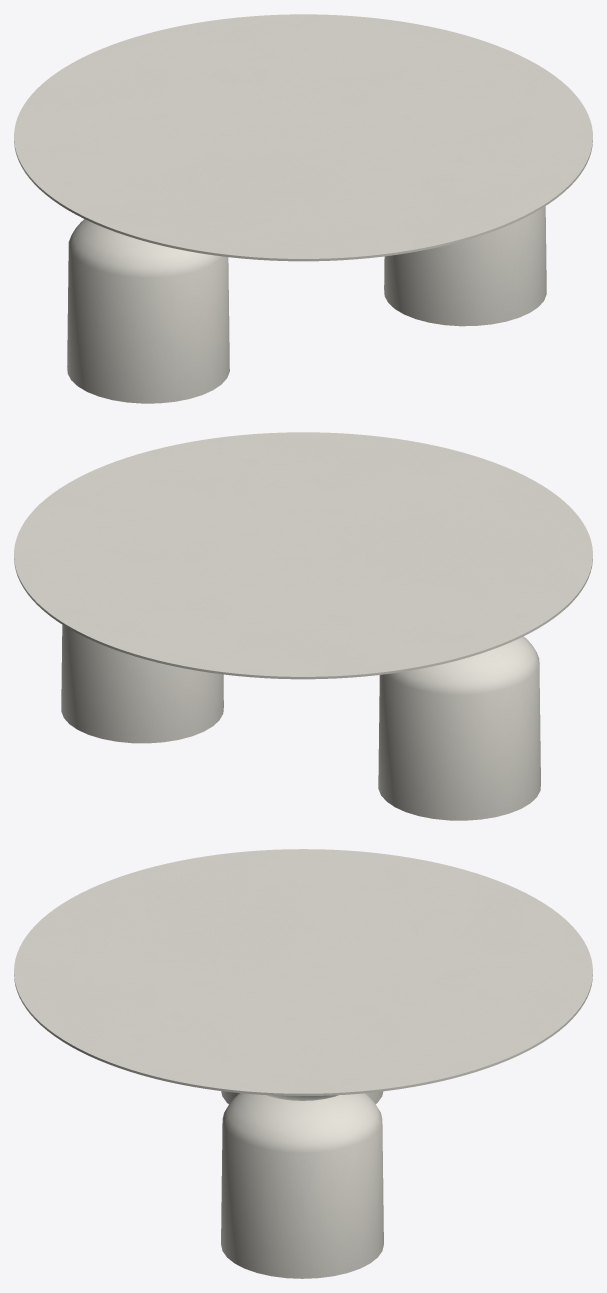
Rendered from pale_round_facet_tornado.glb.
3 views of the same model, one above another, from view 1: azimuth 30°, elevation 25°; view 2: azimuth 150°, elevation 25°; view 3: azimuth 270°, elevation 25° (orthographic).
Visible parts, largest first — view 1: facet_round, tornado; view 2: facet_round, tornado; view 3: facet_round, tornado.
Boxes of the visible parts, box(x1,y1,x2,y2) form: facet_round: box(14, 14, 592, 261); tornado: box(67, 206, 546, 403); facet_round: box(14, 432, 592, 679); tornado: box(61, 625, 540, 820); facet_round: box(14, 849, 592, 1095); tornado: box(221, 1091, 383, 1278).
Bounding box in the file's own units: 6.75 × 2.5 × 6.75.
Materials: 1 (1 with a texture image).
